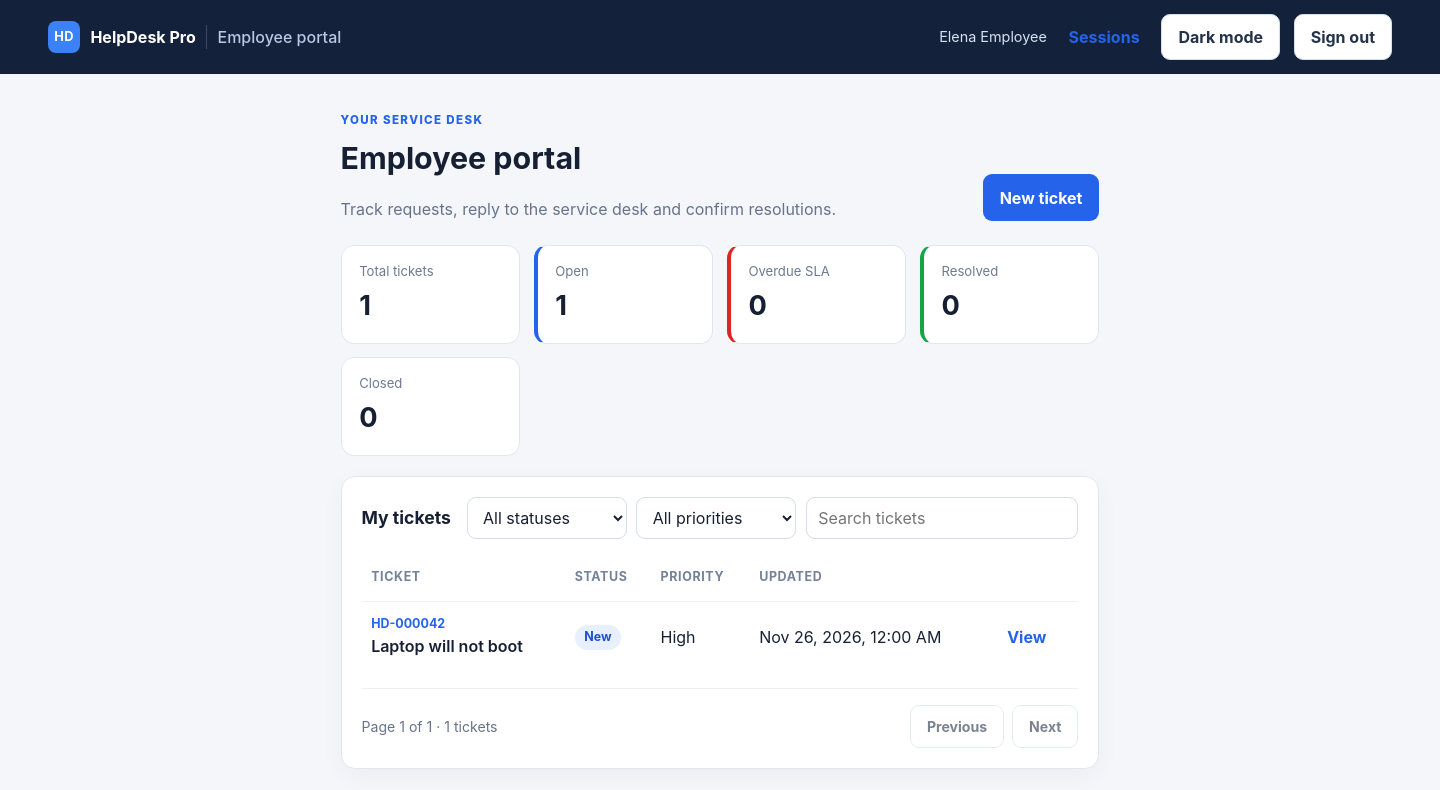
employee portal › keeps the reply text when sending fails
expect the text "HD-000042" is shown: met, box [371,616,445,631]
Click the button "View" at (1027, 637), box [999,619,1055,654]
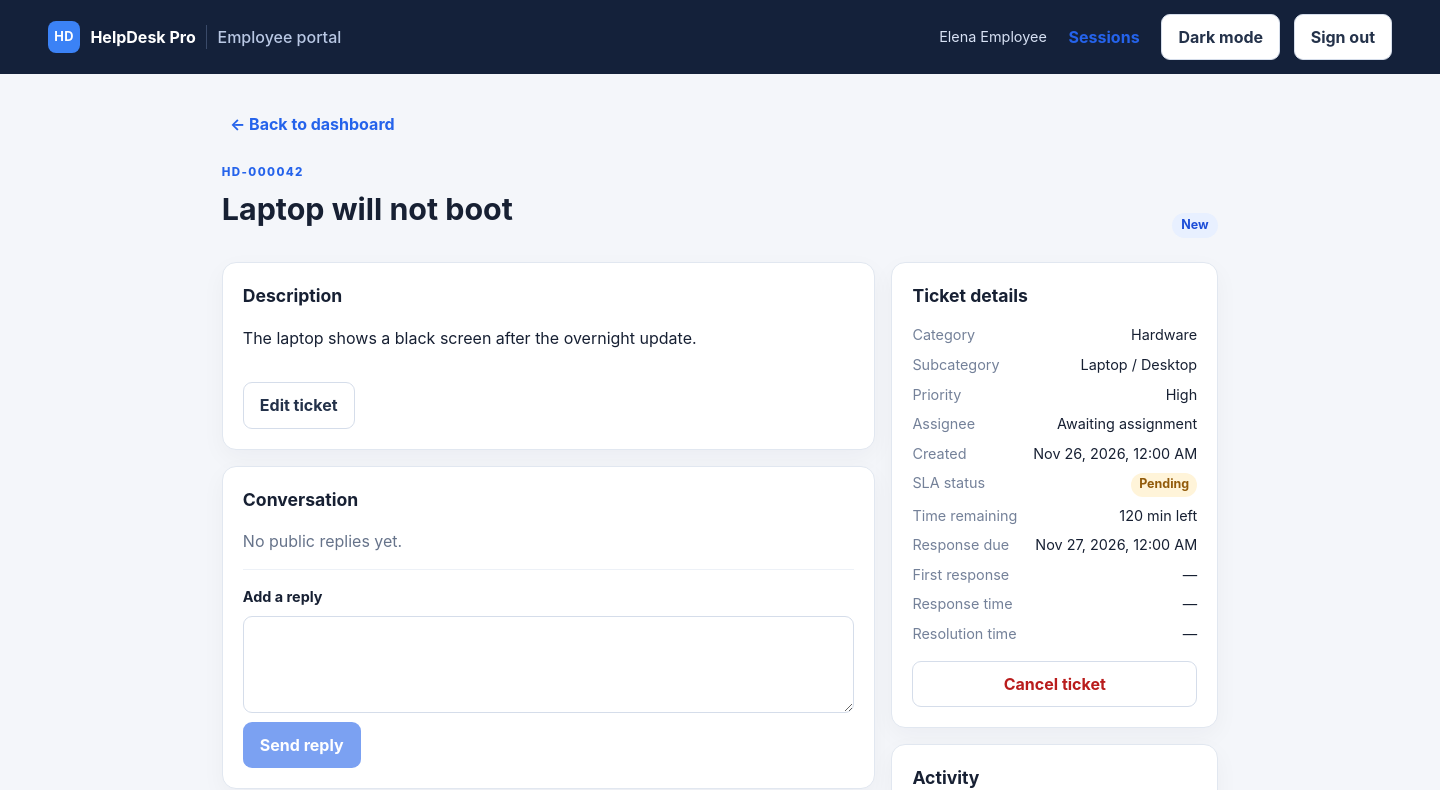
Type "Please keep this text." into the text box labelled "Add a reply" at (549, 664), box [243,616,854,713]
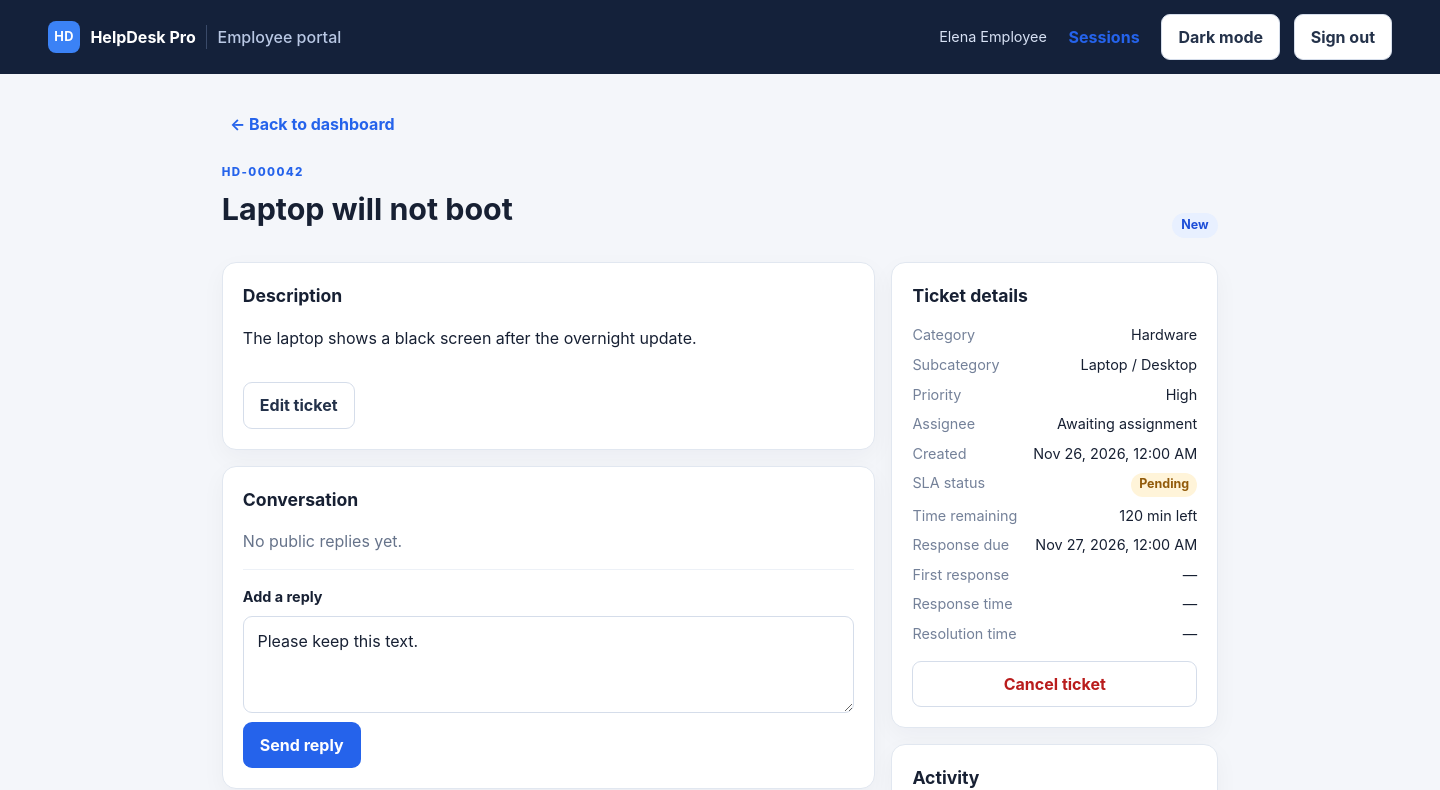
Click the button "Send reply" at (302, 745), box [243,722,360,768]
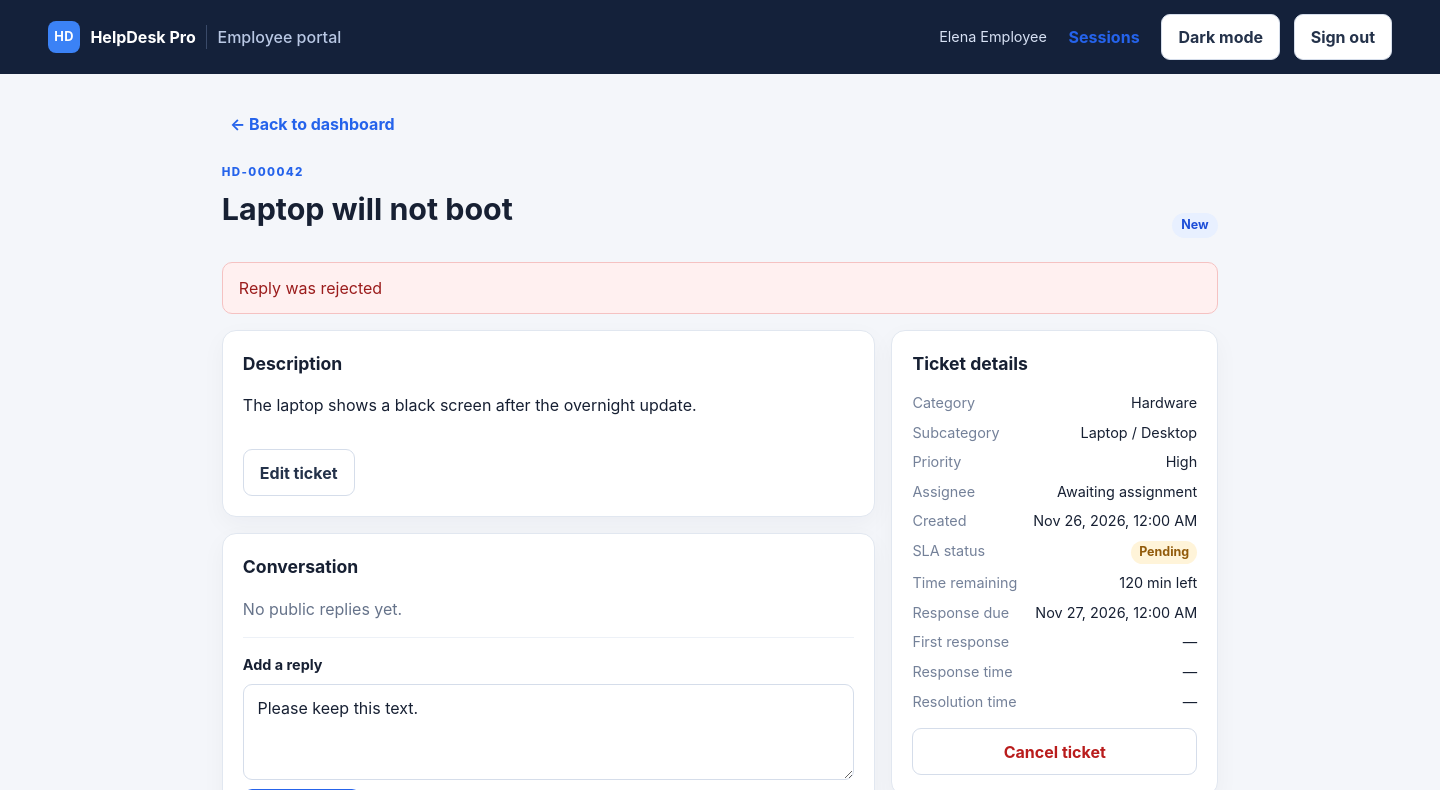
expect the text "Reply was rejected" is shown: met, box [239,276,382,300]
